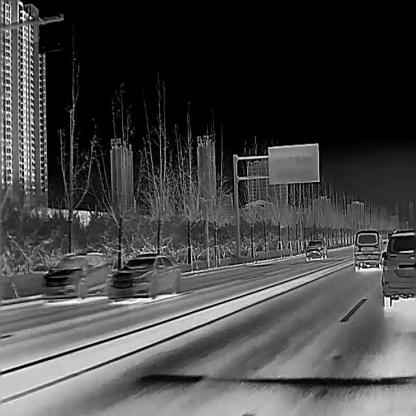car: (106, 252, 180, 300), (42, 250, 108, 301), (380, 228, 416, 307), (354, 228, 382, 269), (306, 238, 326, 259)
